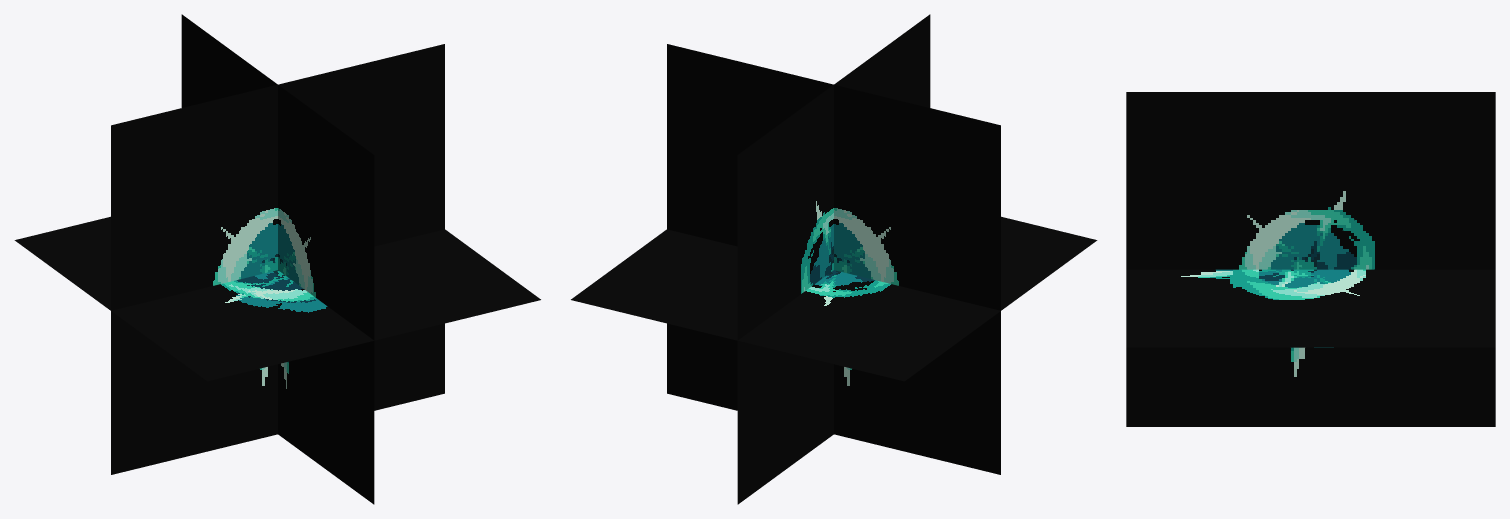
The model's file is vfx_gale_dash_3.gltf.
3 renders of one model, left to right at view 1: azimuth 30°, elevation 25°; view 2: azimuth 150°, elevation 25°; view 3: azimuth 270°, elevation 25°, orthographic. The views are drawn at different scales.
Visible parts, largest first — view 1: cube (×3); view 2: cube (×3); view 3: cube (×2).
Boxes of the visible parts, box(x1,y1,x2,y2) form: cube (×3): box(14, 14, 540, 504); cube (×3): box(571, 14, 1097, 504); cube (×2): box(1126, 92, 1495, 426).
Bounding box in the file's own units: 2.06 × 2.06 × 2.06.
1 material, 1 textured.
